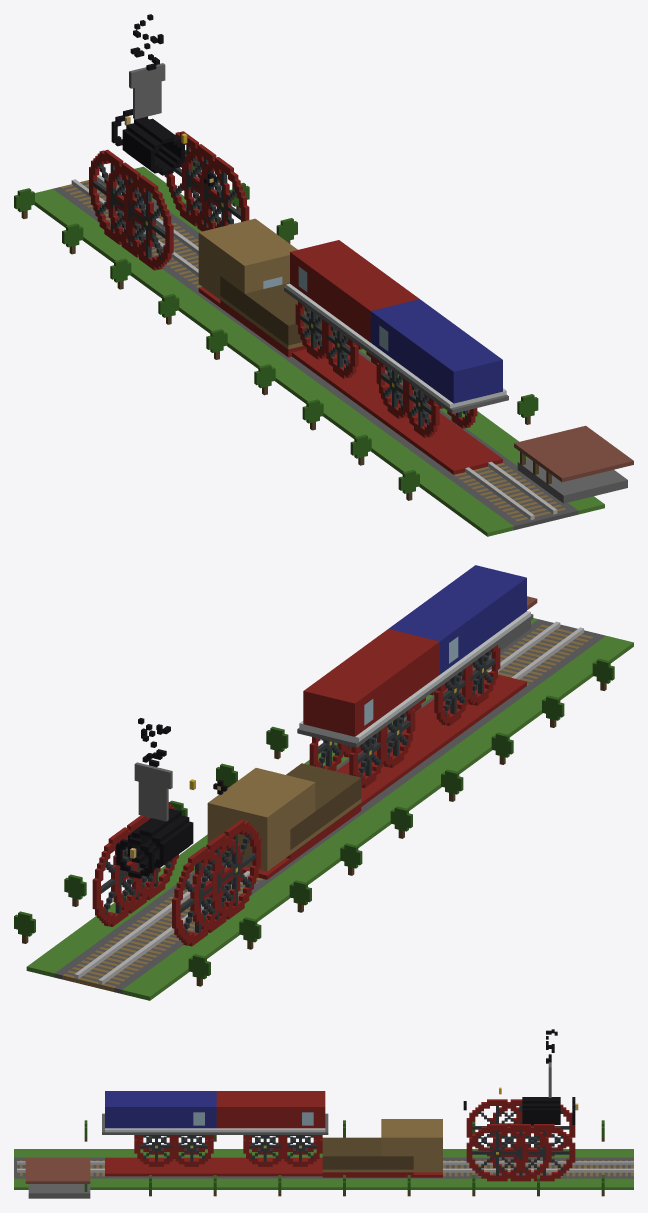
3 renders of one model, top to bottom at view 1: azimuth 30°, elevation 25°; view 2: azimuth 150°, elevation 25°; view 3: azimuth 270°, elevation 25°, orthographic. The views are drawn at different scales.
Bounding box in the file's own units: 50 × 53 × 211.
